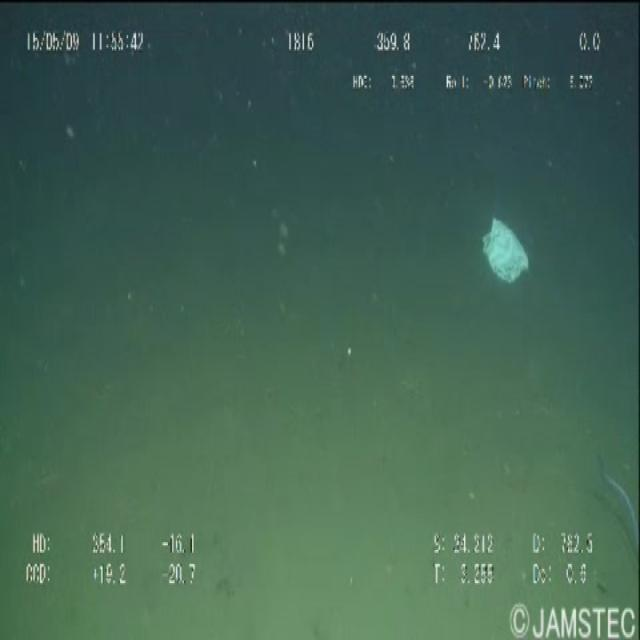Plastic: (477, 200, 533, 290)
